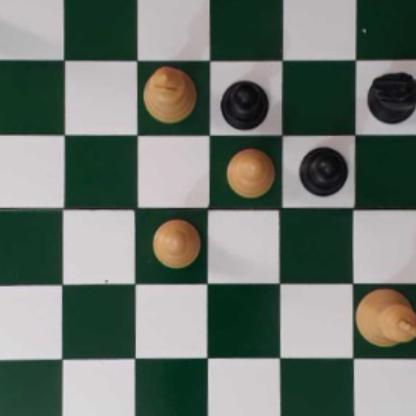black-knight: (371, 70, 416, 125)
black-pawn: (217, 74, 269, 128), (299, 144, 348, 197)
white-bishop: (142, 59, 197, 125)
white-king: (354, 285, 416, 348)
white-pawn: (223, 145, 274, 199), (150, 217, 200, 266)
